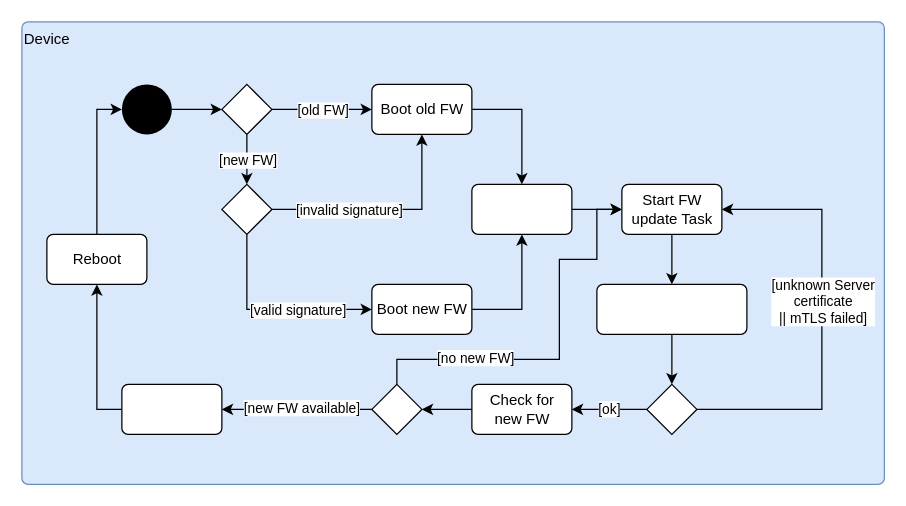
Image size: 906x506. Some labels were removed from this diagram. Each missing label, with the centre of its shape:
"Connect to FW update server" goes at [671,308].
"Download new FW" goes at [171,408].
"Start App" goes at [521,208].
